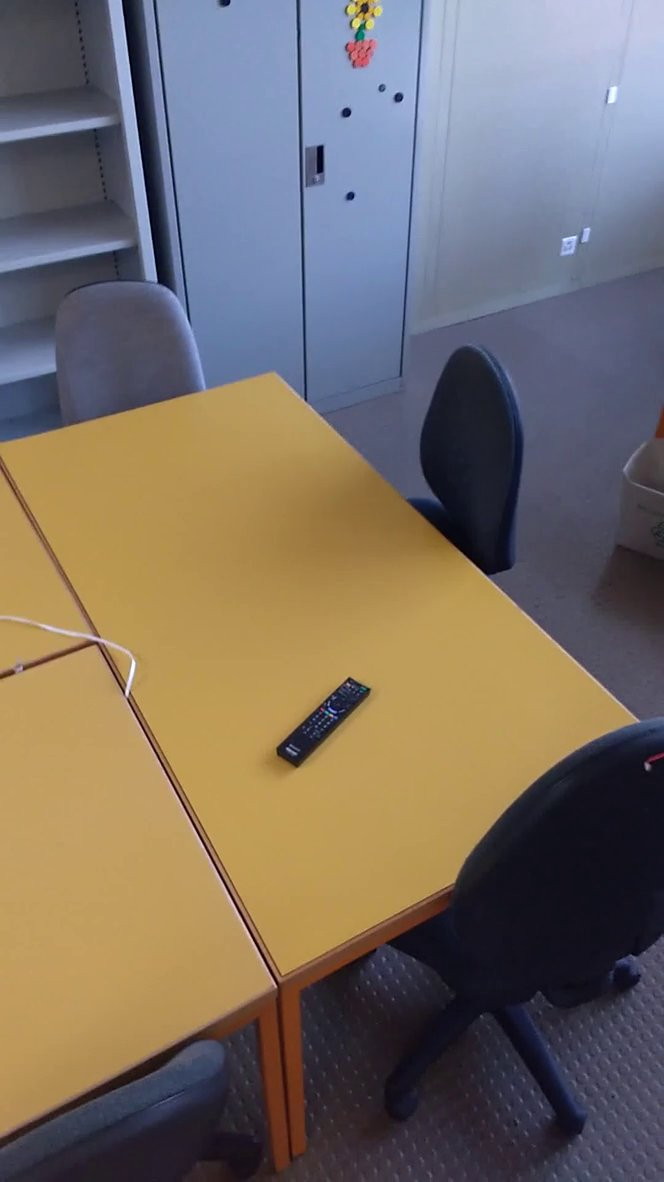chair: (370, 694, 664, 1146), (375, 334, 541, 620), (43, 270, 220, 426)
remote: (271, 669, 381, 778)
